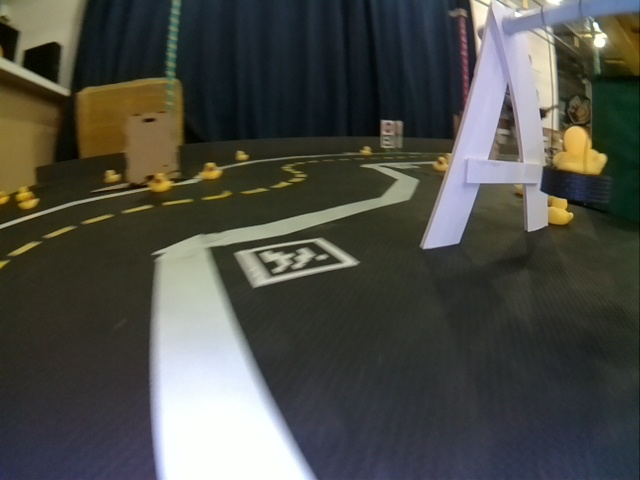Duckie: (553, 126, 607, 175), (547, 198, 574, 225), (149, 173, 172, 192), (203, 162, 220, 180), (103, 169, 119, 182), (432, 156, 442, 168), (16, 190, 28, 200), (237, 152, 247, 161), (361, 148, 370, 155)
QR code: (235, 240, 350, 286)
